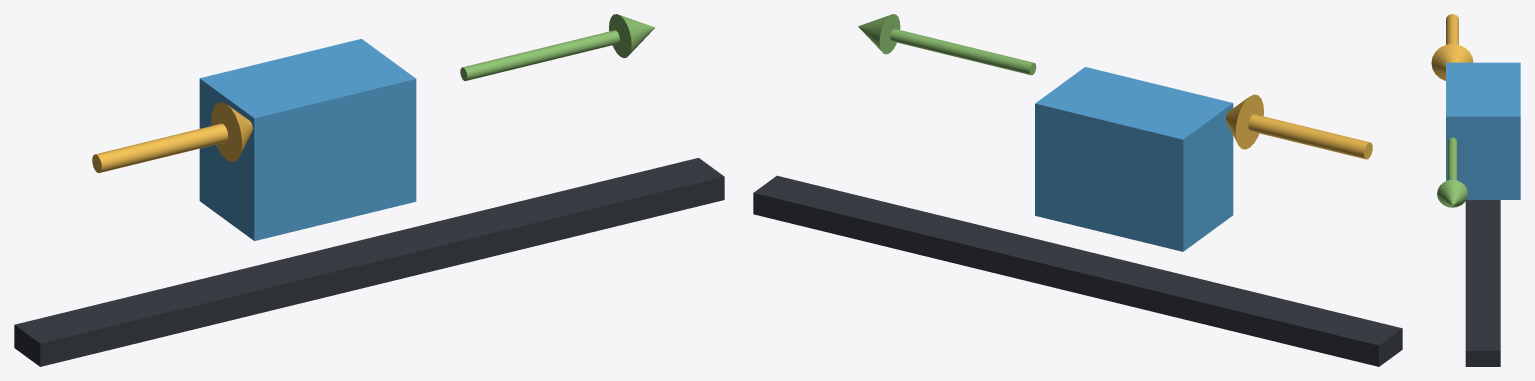
Rendered from physics-p1-force.glb.
3 renders of one model, left to right at view 1: azimuth 30°, elevation 25°; view 2: azimuth 150°, elevation 25°; view 3: azimuth 270°, elevation 25°, orthographic. The views are drawn at different scales.
Parts seen in each view (by area): view 1: mechanics-bench-reference-base, pushed-block-force-target, applied-force-push-arrow-shaft, motion-response-arrow-shaft, applied-force-push-arrow-head, motion-response-arrow-head; view 2: pushed-block-force-target, mechanics-bench-reference-base, applied-force-push-arrow-shaft, motion-response-arrow-shaft, applied-force-push-arrow-head, motion-response-arrow-head; view 3: pushed-block-force-target, mechanics-bench-reference-base, applied-force-push-arrow-head, motion-response-arrow-head, motion-response-arrow-shaft, applied-force-push-arrow-shaft.
Part boxes in pixels (box(x1,y1,x2,y2)): mechanics-bench-reference-base: box(14, 157, 724, 366); pushed-block-force-target: box(199, 39, 416, 240); applied-force-push-arrow-shaft: box(92, 123, 228, 172); motion-response-arrow-shaft: box(460, 30, 619, 81); applied-force-push-arrow-head: box(211, 102, 252, 162); motion-response-arrow-head: box(609, 14, 655, 57); pushed-block-force-target: box(1035, 67, 1233, 251); mechanics-bench-reference-base: box(753, 175, 1402, 366); applied-force-push-arrow-shaft: box(1248, 114, 1372, 159); motion-response-arrow-shaft: box(890, 29, 1036, 75); applied-force-push-arrow-head: box(1226, 94, 1263, 149); motion-response-arrow-head: box(858, 14, 900, 54); pushed-block-force-target: box(1446, 62, 1520, 199); mechanics-bench-reference-base: box(1465, 200, 1500, 366); applied-force-push-arrow-head: box(1431, 44, 1473, 80); motion-response-arrow-head: box(1437, 180, 1467, 207); motion-response-arrow-shaft: box(1447, 137, 1457, 180); applied-force-push-arrow-shaft: box(1446, 14, 1458, 44).
Size of what is drawn, in the model's own units: 2.45 by 0.776 by 0.406.
